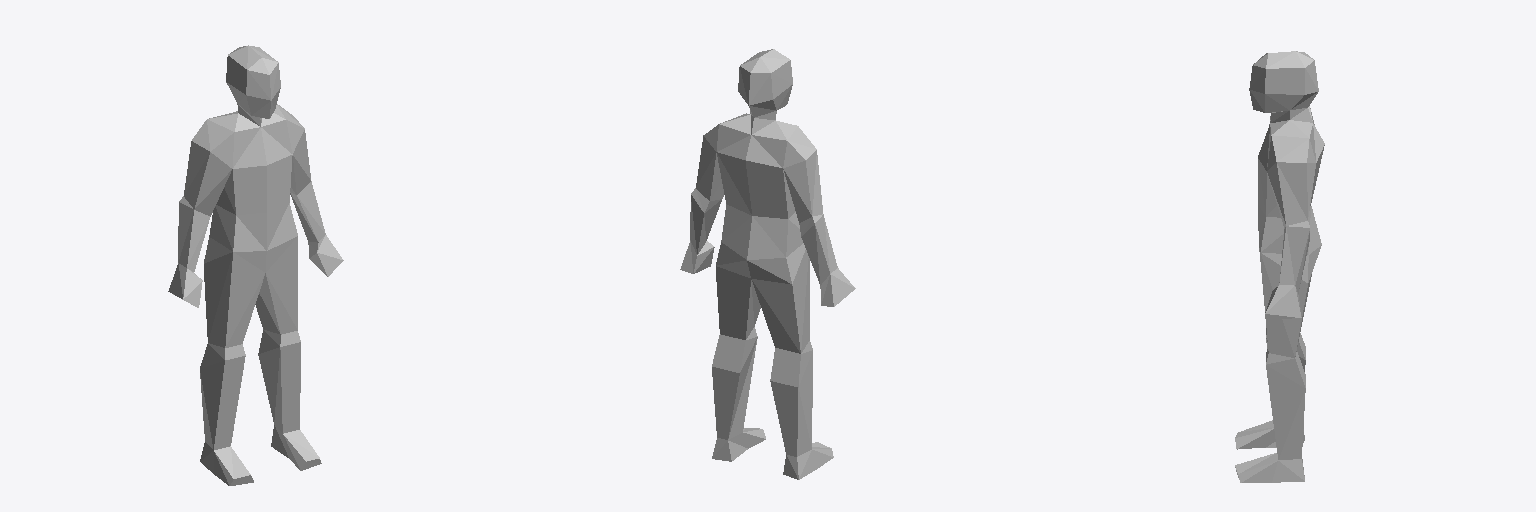
The model's file is human_low.obj.
3 renders of one model, left to right at view 1: azimuth 30°, elevation 25°; view 2: azimuth 150°, elevation 25°; view 3: azimuth 270°, elevation 25°, orthographic.
Parts seen in each view (by area): view 1: HumanLow_Cube; view 2: HumanLow_Cube; view 3: HumanLow_Cube.
Part boxes in pixels (left/top/right/bottom): HumanLow_Cube: left=168, top=45, right=343, bottom=485; HumanLow_Cube: left=680, top=49, right=855, bottom=479; HumanLow_Cube: left=1235, top=51, right=1324, bottom=482.
Bounding box in the file's own units: 0.8065 × 1.97 × 0.3918.